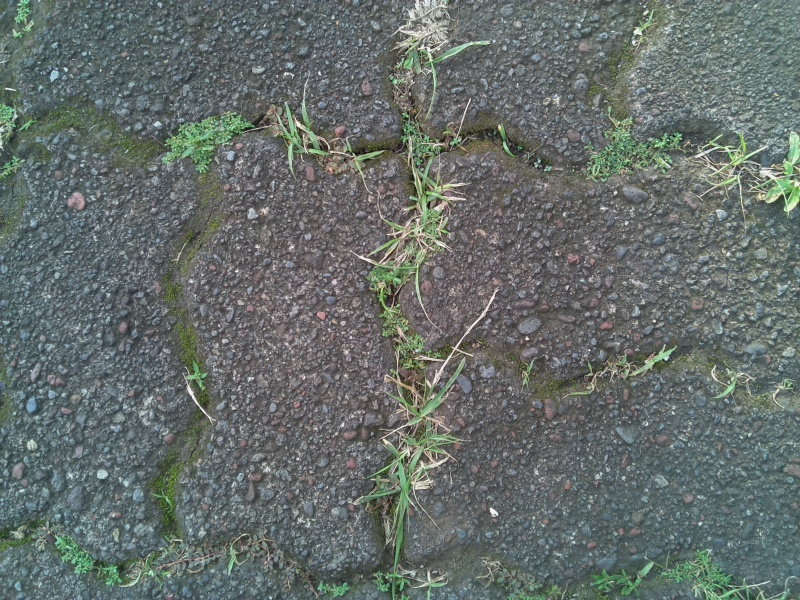Weed: (353, 384, 474, 533), (374, 170, 480, 290), (357, 266, 454, 378), (270, 103, 372, 189), (572, 112, 684, 184), (152, 104, 257, 177), (38, 522, 129, 596), (386, 3, 468, 70), (388, 110, 465, 177), (579, 344, 660, 398), (707, 129, 760, 204), (763, 126, 800, 229), (210, 528, 254, 580), (708, 361, 755, 409), (176, 357, 217, 393), (369, 564, 410, 597), (630, 11, 664, 50), (308, 572, 353, 600), (489, 123, 520, 162)
